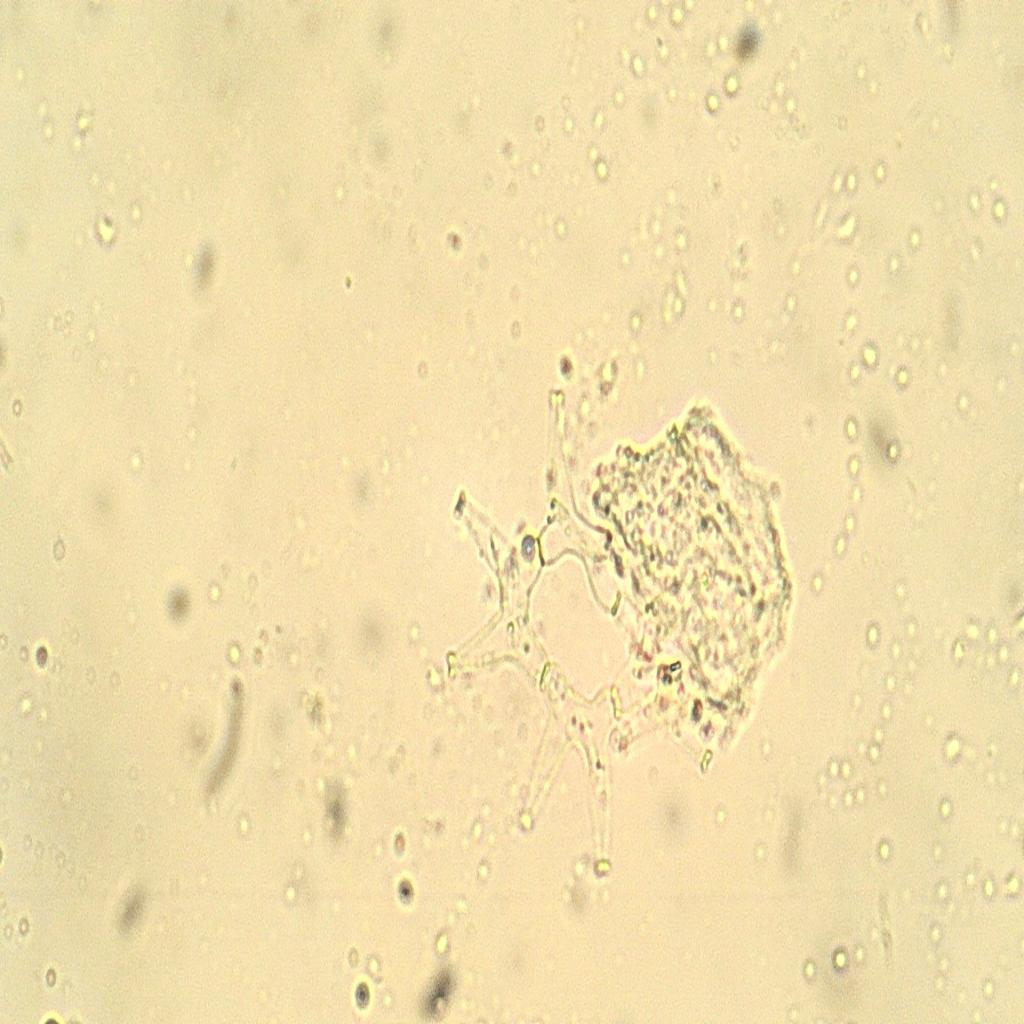Pediastrum_75TH: (414, 358, 717, 938)
